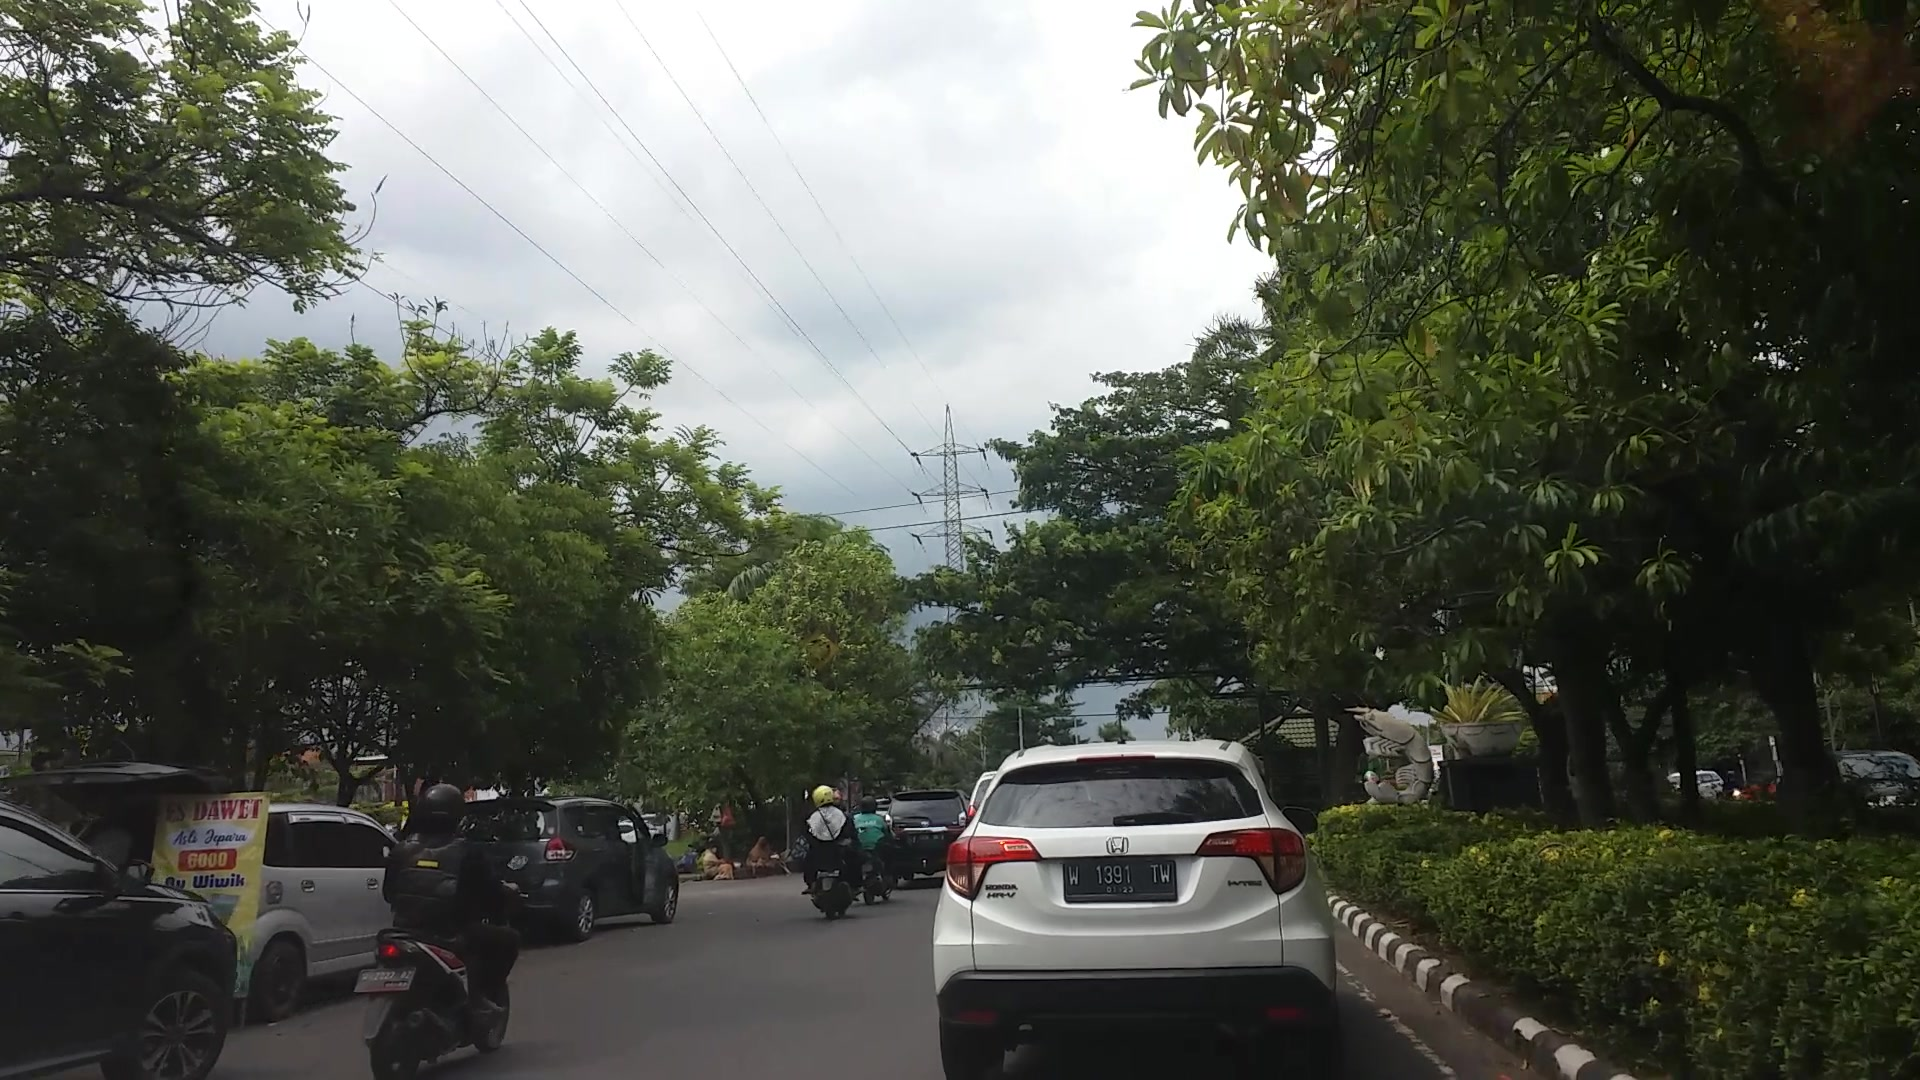plate_positive: (1064, 858, 1178, 903)
